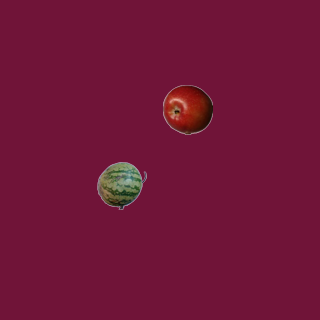Apple Braeburn: (162, 84, 212, 134)
Watermelon: (96, 160, 146, 210)
